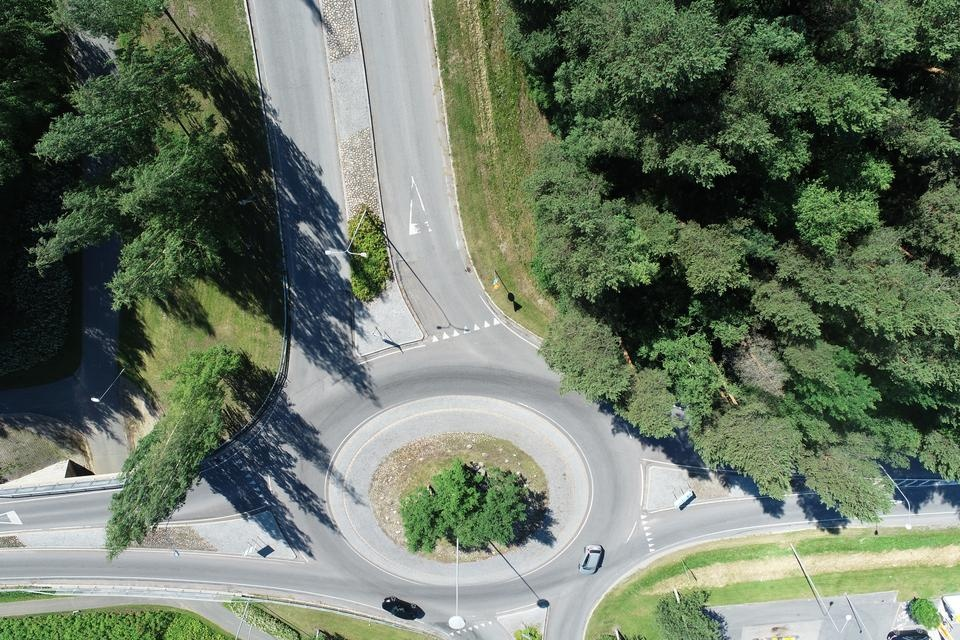roundabout: (242, 274, 680, 636)
